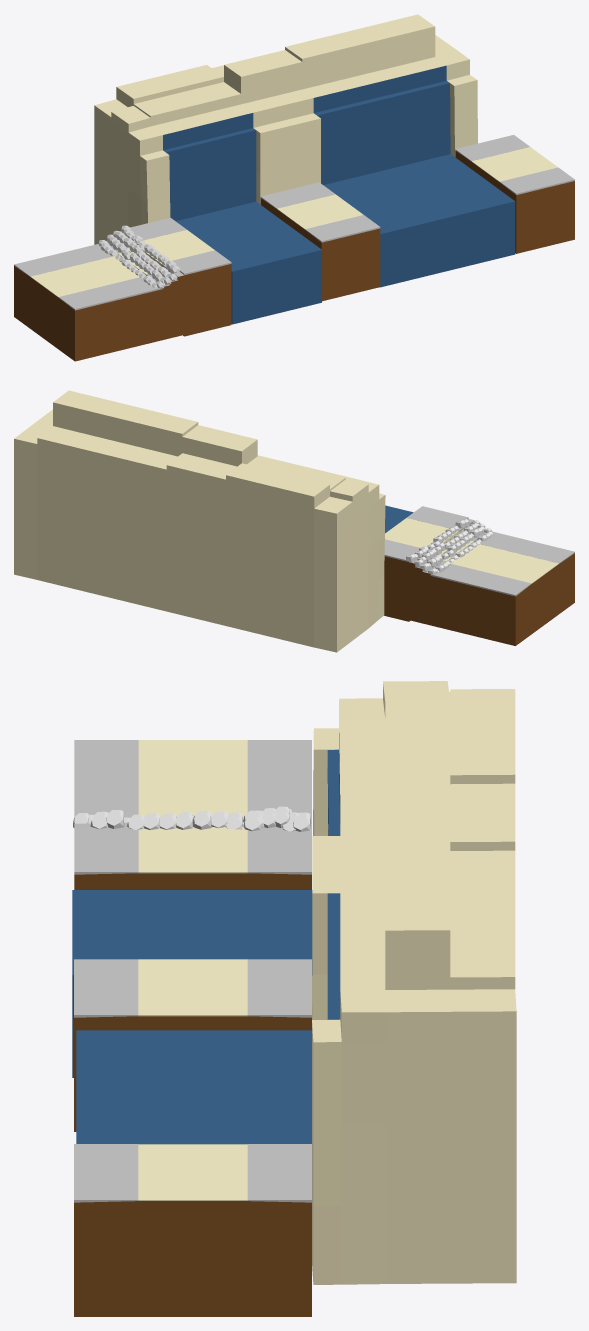
Rendered from platform.1.2.fbx.
The picture shows the model from 3 angles, top to bottom: view 1: azimuth 30°, elevation 25°; view 2: azimuth 150°, elevation 25°; view 3: azimuth 270°, elevation 25°; orthographic projection. The views are drawn at different scales.
Parts seen in each view (by area): view 1: Cube.041, Cube.001; view 2: Cube.041, Cube.001; view 3: Cube.041, Cube.001.
Part boxes in pixels (x1,y1,x2,y2): Cube.041: (94, 14, 515, 324); Cube.001: (14, 135, 574, 361); Cube.041: (14, 390, 413, 652); Cube.001: (384, 506, 574, 645); Cube.041: (72, 681, 516, 1284); Cube.001: (74, 740, 311, 1316).
Size of the model in its own units: 7191 by 2349 by 2842.
